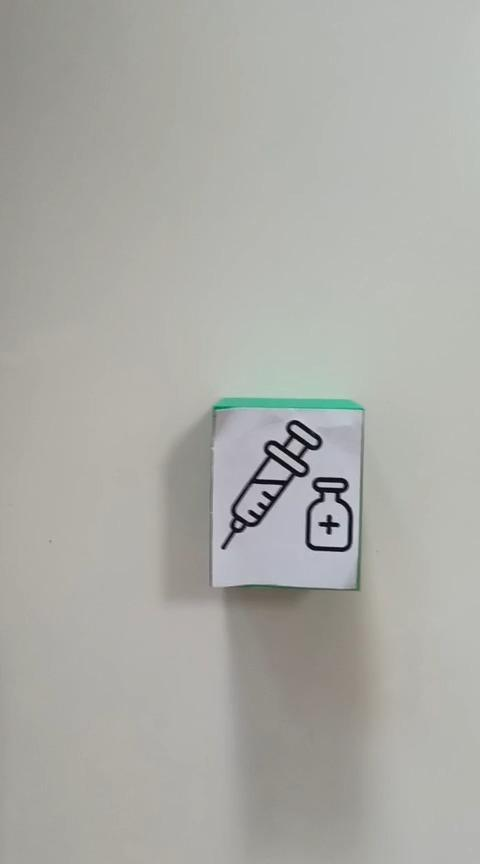antiseptic cream: (208, 396, 365, 591)
